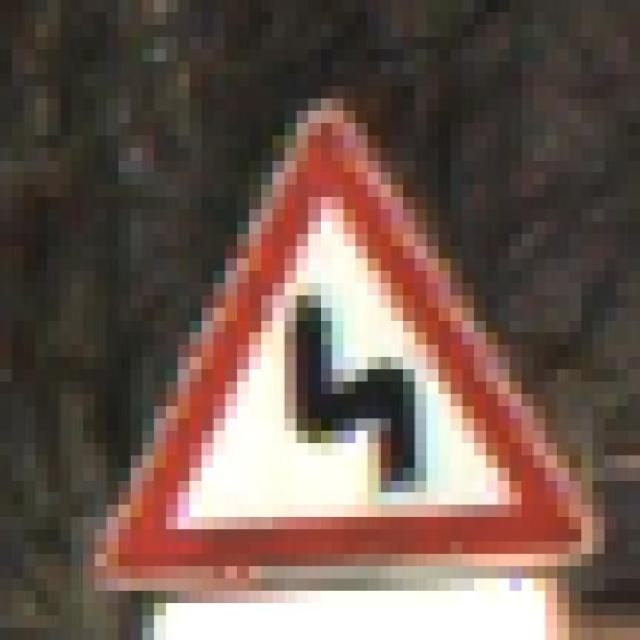Left Zig Zag Traffic: (85, 84, 606, 601)
